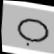no answer: (11, 9, 51, 47)
